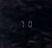seven: (19, 20, 25, 28)
zero: (26, 19, 32, 27)
